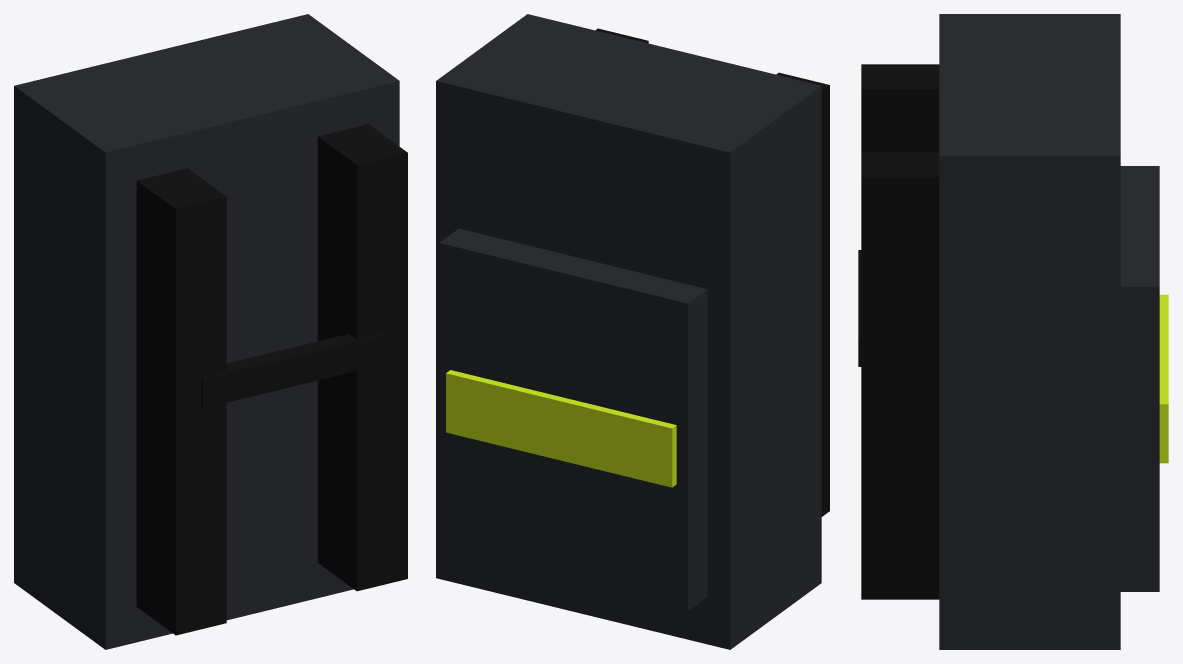
File: equipaje.obj
3 renders of one model, left to right at view 1: azimuth 30°, elevation 25°; view 2: azimuth 150°, elevation 25°; view 3: azimuth 270°, elevation 25°, orthographic.
Parts seen in each view (by area): view 1: Mochila_Ciclista; view 2: Mochila_Ciclista; view 3: Mochila_Ciclista.
Boxes of the visible parts, left/top/right/bottom form: Mochila_Ciclista: left=14, top=14, right=407, bottom=649; Mochila_Ciclista: left=436, top=14, right=829, bottom=649; Mochila_Ciclista: left=858, top=14, right=1168, bottom=649.
Bounding box in the file's own units: 0.26 × 0.42 × 0.2395.
